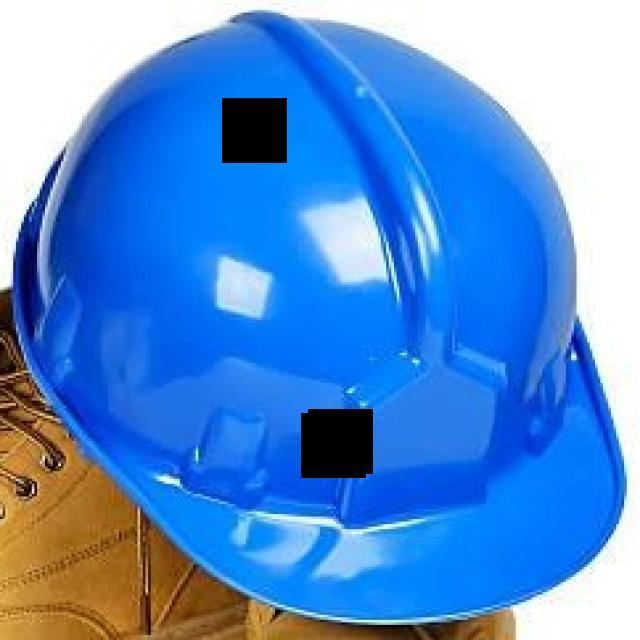blue helmet: (27, 29, 614, 583)
